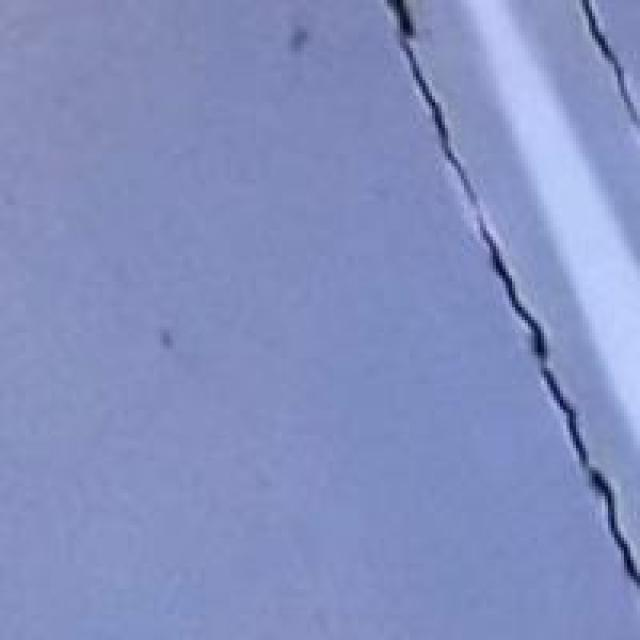Crack: (377, 0, 636, 598)
